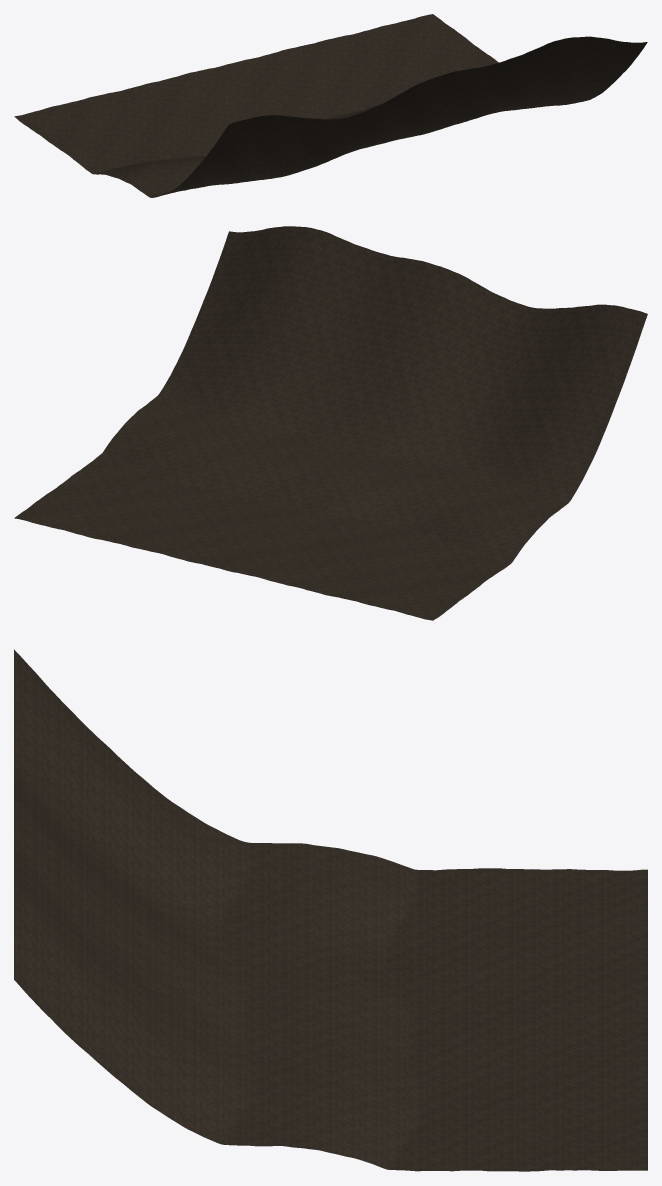
File: terrain_campsite.glb
The picture shows the model from 3 angles, top to bottom: view 1: azimuth 30°, elevation 25°; view 2: azimuth 150°, elevation 25°; view 3: azimuth 270°, elevation 25°; orthographic projection. The views are drawn at different scales.
Visible parts, largest first — view 1: CampsiteTerrain; view 2: CampsiteTerrain; view 3: CampsiteTerrain.
Part boxes in pixels (x1,y1,x2,y2): CampsiteTerrain: [14, 14, 647, 197]; CampsiteTerrain: [14, 226, 647, 620]; CampsiteTerrain: [14, 649, 647, 1171].
Size of the model in its own units: 180 by 63.29 by 160.
1 material, 1 textured.
